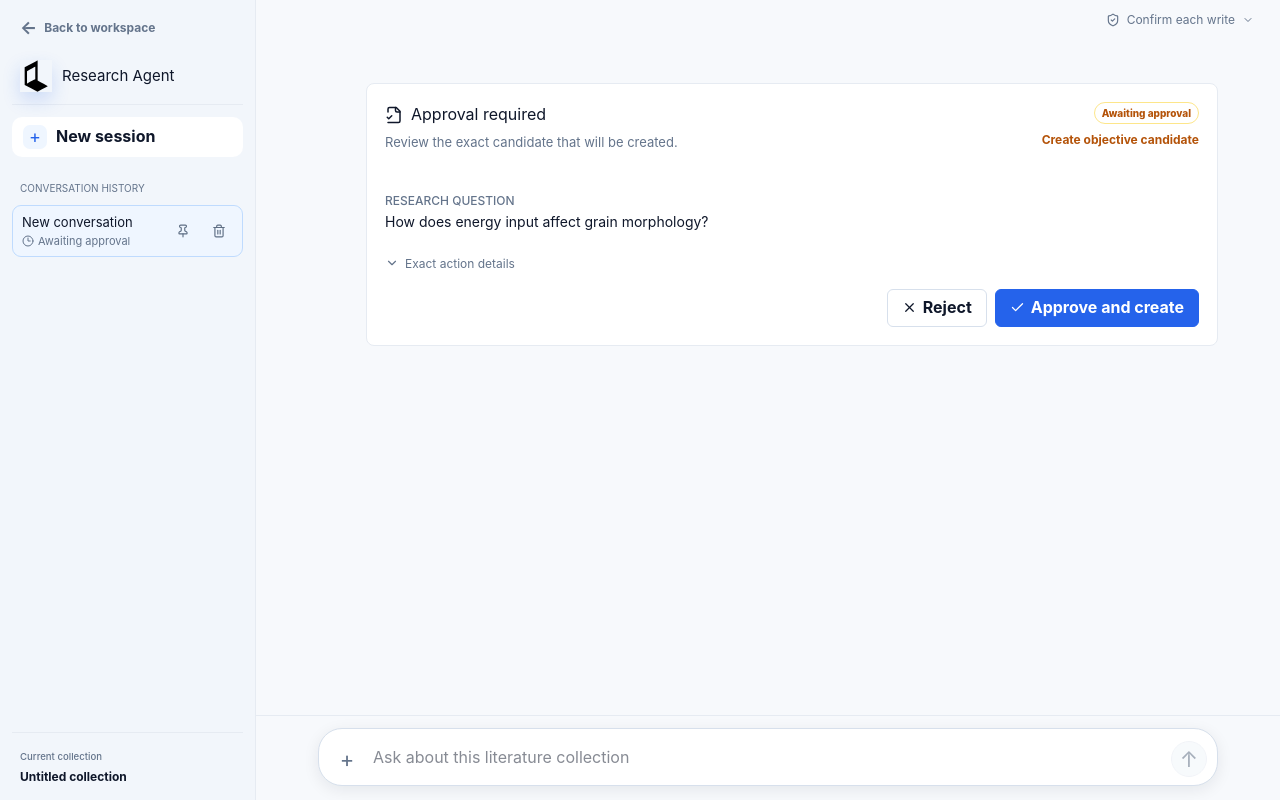
Test: collections/[id]/assistant Research Agent › keeps an uncertain approval visible as an error until its saved result can be loaded
The width and height of the screenshot is (1280, 800).
Step 1. Click the button "Approve and create" → (1097, 308), box [995,289,1199,327]
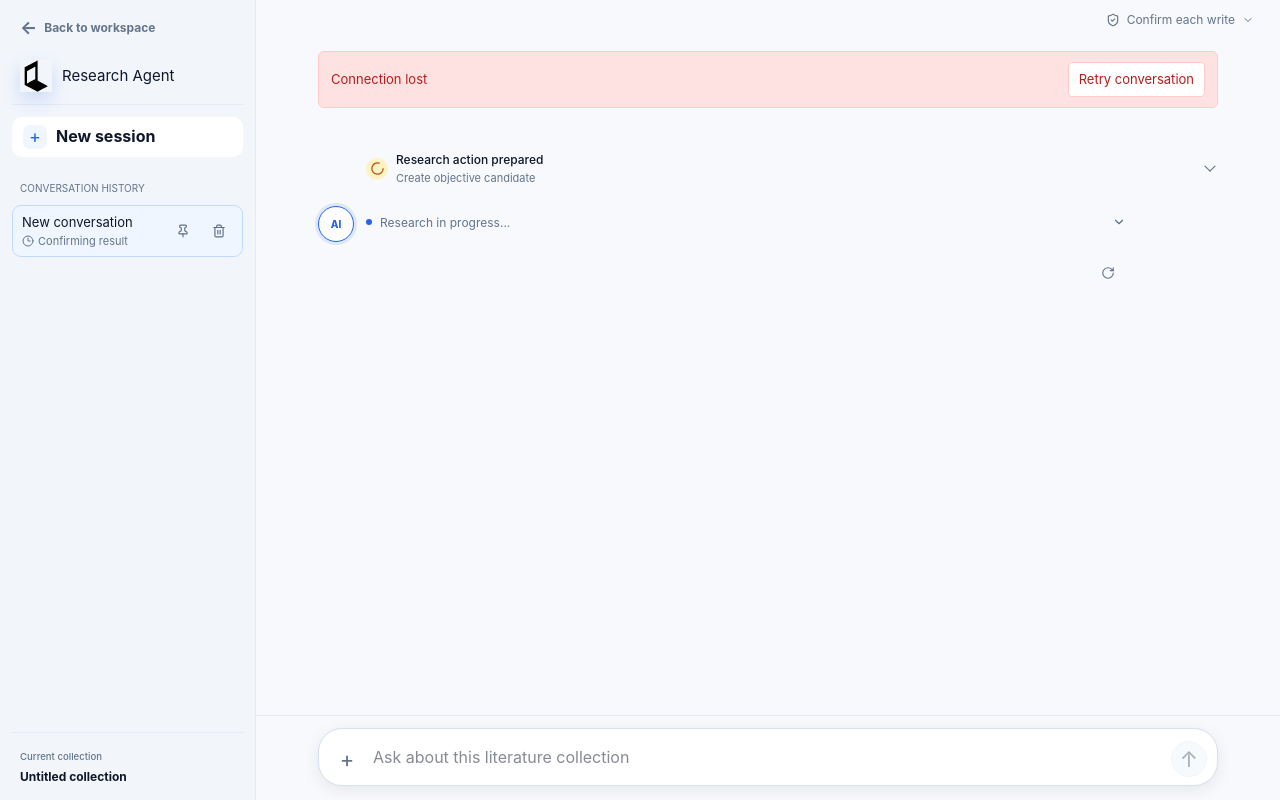
Result: the message "Connection lost Retry conversation" is shown at [318,51,1218,108]
Result: the button "Retry conversation" is enabled at [1068,62,1205,97]
